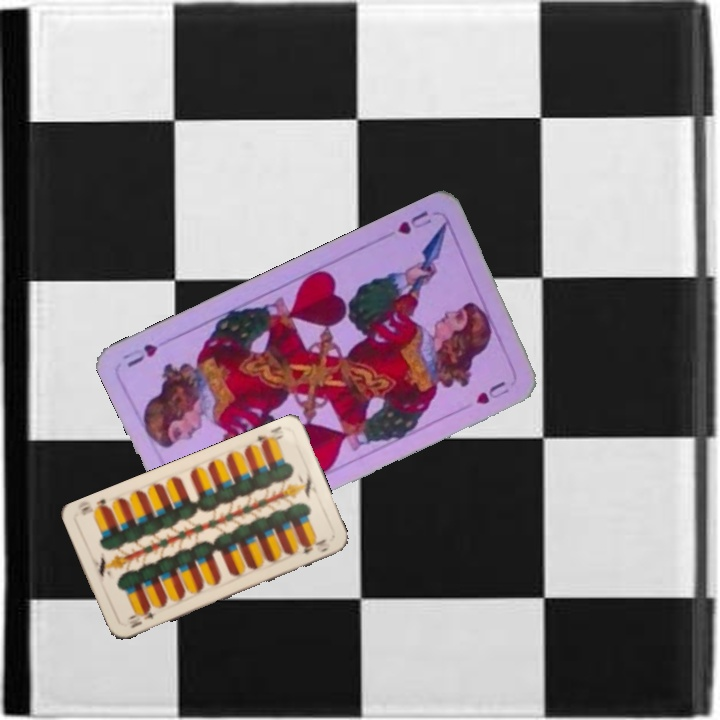E10: (252, 422, 286, 450), (126, 604, 160, 631)
HU: (393, 206, 434, 237)
